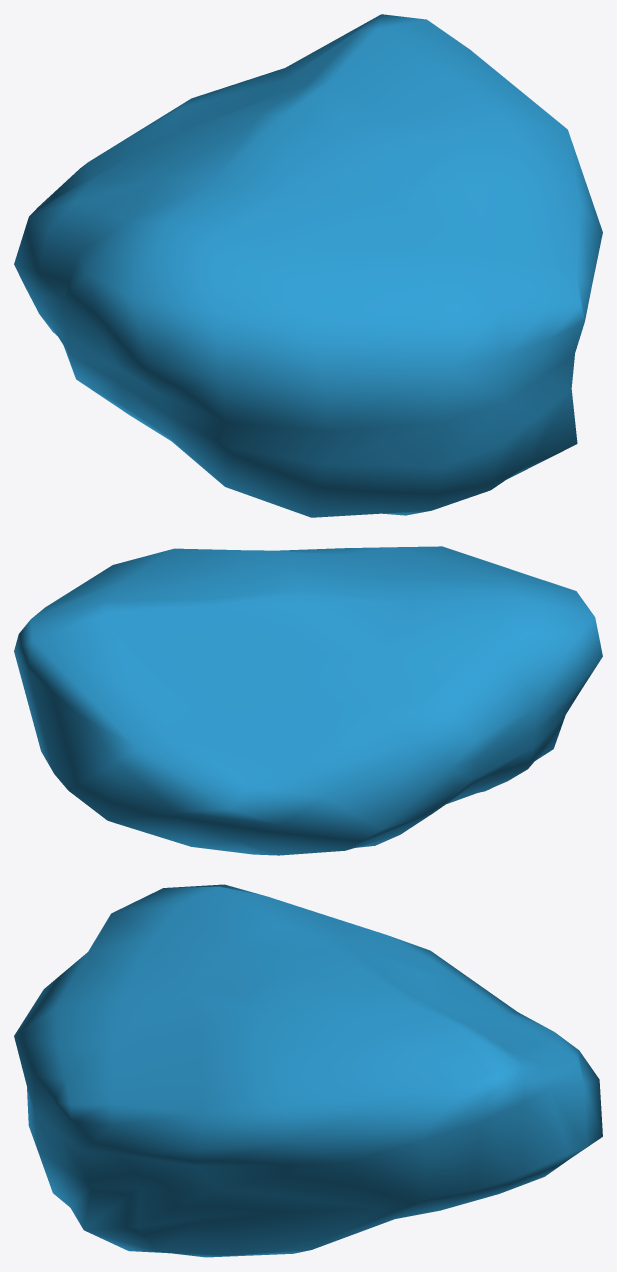
File: Rock_S_04_Lod0.fbx
3 renders of one model, top to bottom at view 1: azimuth 30°, elevation 25°; view 2: azimuth 150°, elevation 25°; view 3: azimuth 270°, elevation 25°, orthographic. The views are drawn at different scales.
Visible parts, largest first — view 1: Rock_S_04_Lod0; view 2: Rock_S_04_Lod0; view 3: Rock_S_04_Lod0.
Part boxes in pixels (x1,y1,x2,y2): Rock_S_04_Lod0: [14, 14, 602, 517]; Rock_S_04_Lod0: [14, 546, 602, 855]; Rock_S_04_Lod0: [14, 884, 602, 1257].
Size of the model in its own units: 313 by 173 by 353.
